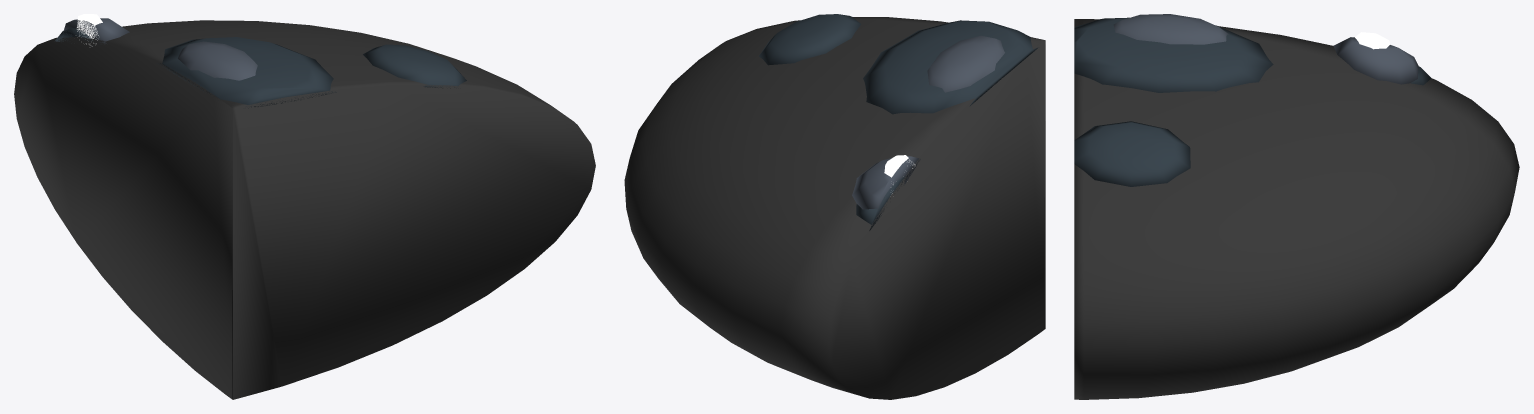
The model's file is newshu-93.glb.
The picture shows the model from 3 angles, left to right: view 1: azimuth 30°, elevation 25°; view 2: azimuth 150°, elevation 25°; view 3: azimuth 270°, elevation 25°; orthographic projection. The views are drawn at different scales.
Visible parts, largest first — view 1: newshu-93; view 2: newshu-93; view 3: newshu-93.
Boxes of the visible parts, <box> form: newshu-93: <box>14,14,595,399</box>; newshu-93: <box>624,14,1045,399</box>; newshu-93: <box>1074,14,1519,399</box>.
Size of the model in its own units: 1.88 by 1.51 by 1.96.
